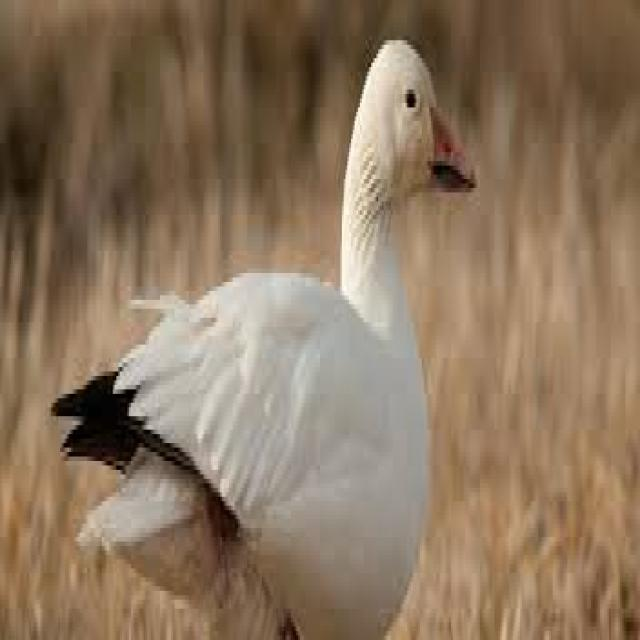Goose: (51, 31, 478, 640)
